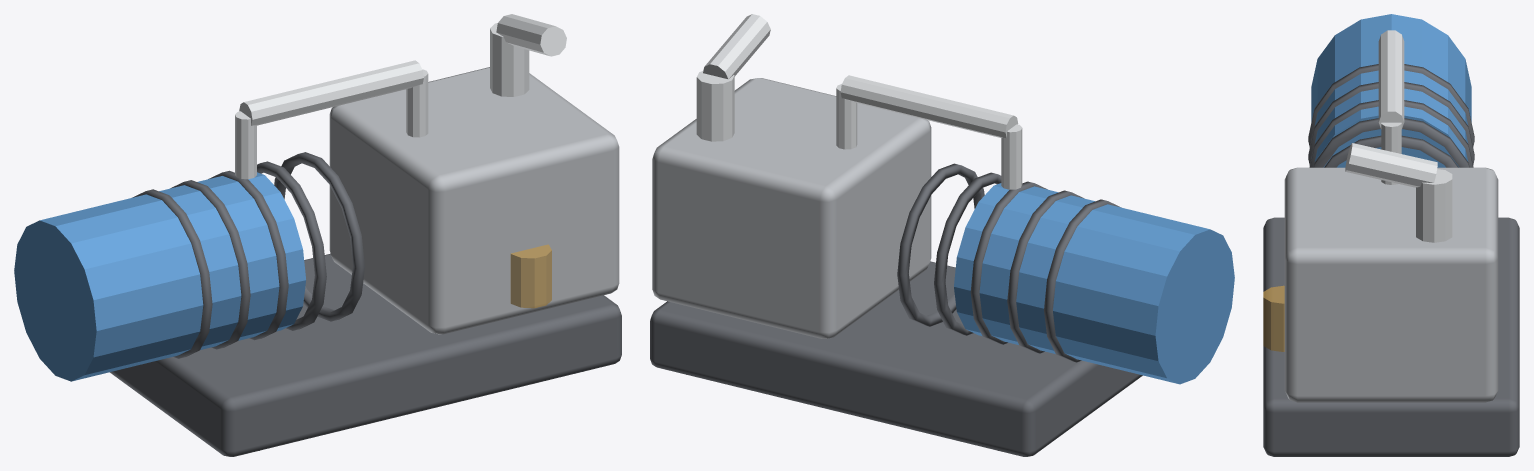
The model's file is vacuum-pump.glb.
The picture shows the model from 3 angles, left to right: view 1: azimuth 30°, elevation 25°; view 2: azimuth 150°, elevation 25°; view 3: azimuth 270°, elevation 25°; orthographic projection. The views are drawn at different scales.
Parts seen in each view (by area): view 1: vacuum-pump; view 2: vacuum-pump; view 3: vacuum-pump.
Part boxes in pixels (box(x1,y1,x2,y2)): vacuum-pump: box(14, 14, 621, 456); vacuum-pump: box(650, 14, 1234, 456); vacuum-pump: box(1263, 14, 1519, 456).
Size of the model in its own units: 0.54 by 0.3129 by 0.24.
